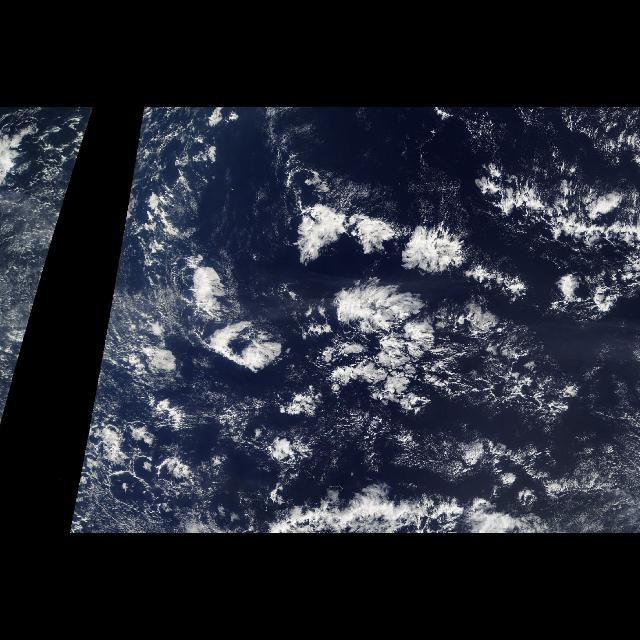Flower: (183, 188, 532, 452)
Sugar: (494, 396, 636, 524), (98, 188, 180, 380), (1, 188, 68, 380)
